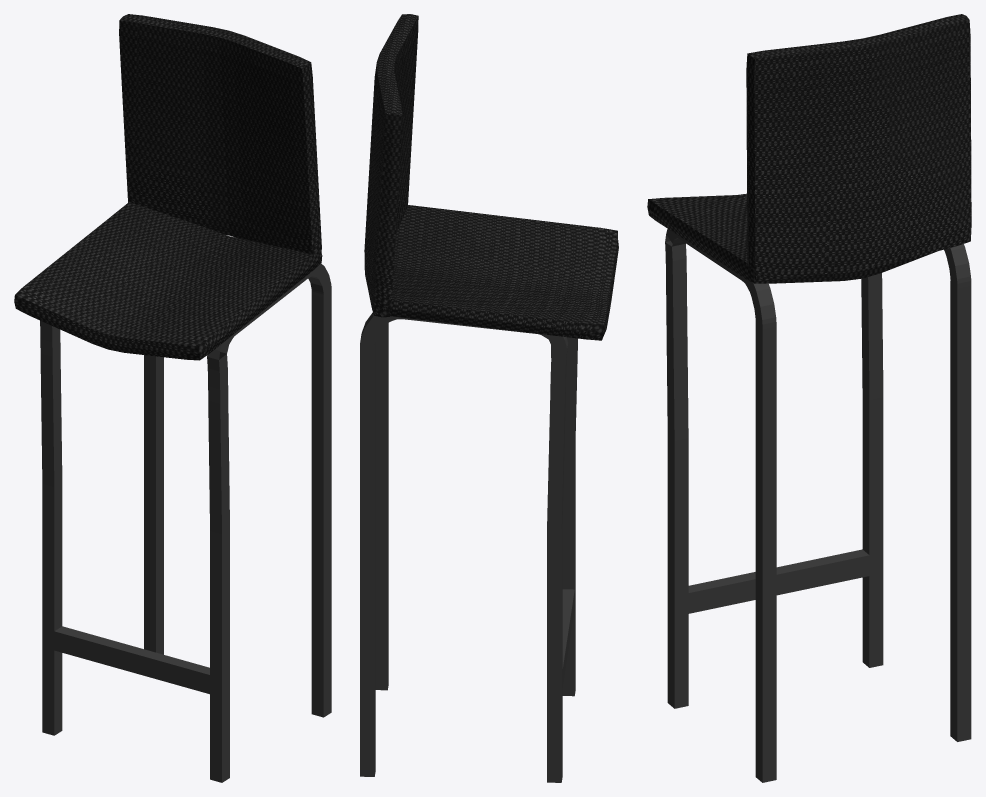
File: BarchairNEW.fbx
The picture shows the model from 3 angles, left to right: view 1: azimuth 30°, elevation 25°; view 2: azimuth 150°, elevation 25°; view 3: azimuth 270°, elevation 25°; orthographic projection. The views are drawn at different scales.
Visible parts, largest first — view 1: Barchair Back, Barchair Legs, Barchair Seat; view 2: Barchair Seat, Barchair Legs, Barchair Back; view 3: Barchair Back, Barchair Legs, Barchair Seat.
Part boxes in pixels (x1,y1,x2,y2): Barchair Back: (119, 14, 321, 254); Barchair Legs: (40, 263, 331, 782); Barchair Seat: (14, 202, 322, 360); Barchair Seat: (388, 205, 618, 340); Barchair Legs: (360, 312, 577, 782); Barchair Back: (364, 14, 418, 317); Barchair Back: (746, 14, 971, 280); Barchair Legs: (665, 229, 971, 782); Barchair Seat: (647, 193, 936, 283).
Bounding box in the file's own units: 66.98 × 156 × 64.27.
3 materials, 2 textured.
